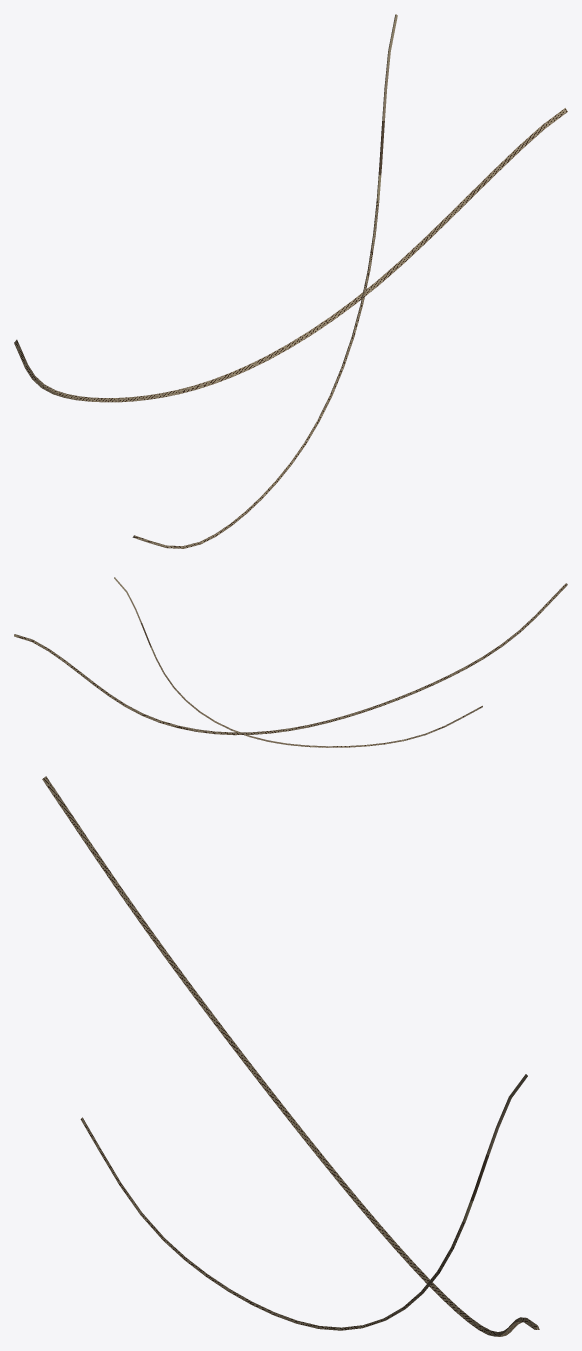
File: JAM_Ropes.fbx
3 views of the same model, one above another, from view 1: azimuth 30°, elevation 25°; view 2: azimuth 150°, elevation 25°; view 3: azimuth 270°, elevation 25° (orthographic). The views are drawn at different scales.
Parts seen in each view (by area): view 1: Rope_02, Rope_01; view 2: Rope_02, Rope_01; view 3: Rope_02, Rope_01.
Boxes of the visible parts, x1,y1,x2,y2 form: Rope_02: (14,108,567,402); Rope_01: (132,14,397,548); Rope_02: (14,583,567,735); Rope_01: (114,577,482,747); Rope_02: (42,776,539,1336); Rope_01: (80,1074,527,1330).
Size of the model in its own units: 15.73 by 6.48 by 7.86.
